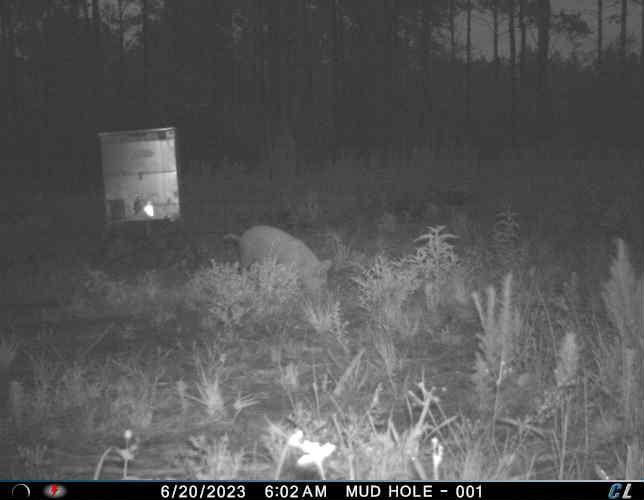Hog: (225, 222, 334, 301)
